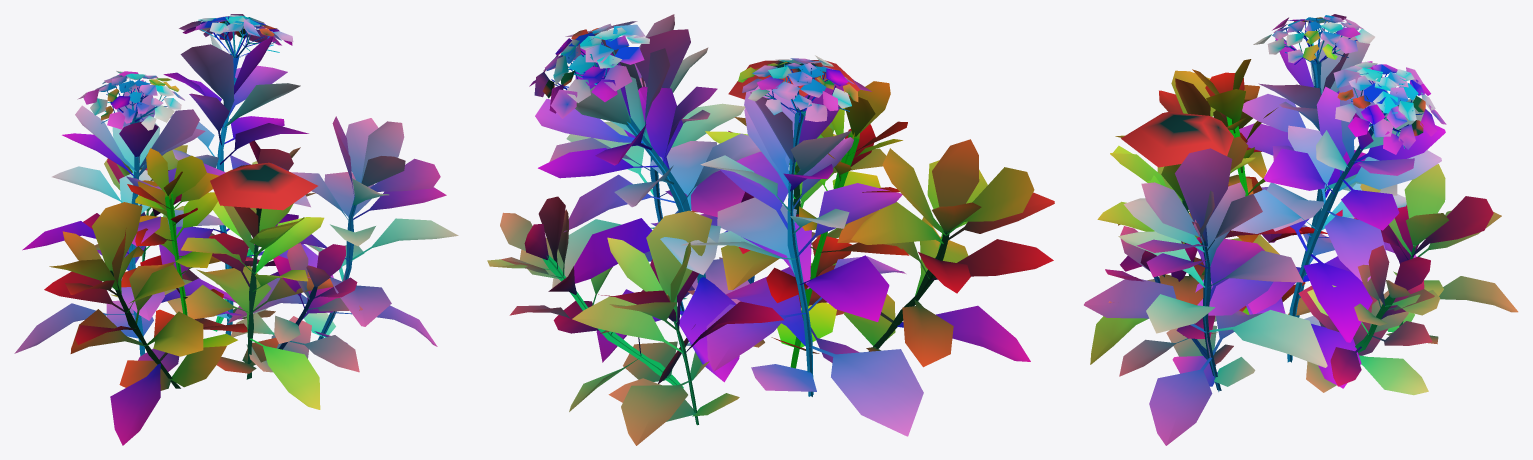
The model's file is Bigleaf_Hydrangea_vgztealha_Mid_vgztealha_VarE_LOD2.fbx.
The picture shows the model from 3 angles, left to right: view 1: azimuth 30°, elevation 25°; view 2: azimuth 150°, elevation 25°; view 3: azimuth 270°, elevation 25°; orthographic projection. The views are drawn at different scales.
Visible parts, largest first — view 1: _ujlq_VarE_LOD4; view 2: _ujlq_VarE_LOD4; view 3: _ujlq_VarE_LOD4.
Part boxes in pixels (x1,y1,x2,y2): _ujlq_VarE_LOD4: (14, 14, 458, 445); _ujlq_VarE_LOD4: (487, 14, 1054, 445); _ujlq_VarE_LOD4: (1084, 14, 1518, 445).
Size of the model in its own units: 78.46 by 56.87 by 69.82.
